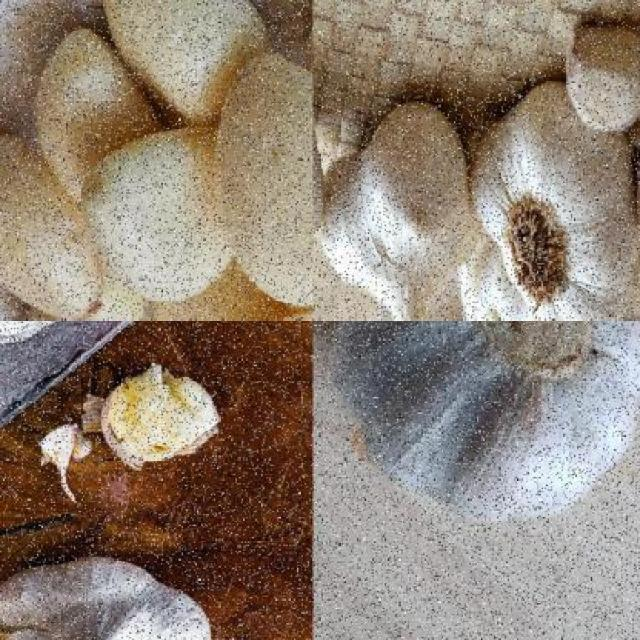garlic: (0, 0, 312, 318), (326, 320, 639, 522), (313, 83, 487, 320), (470, 79, 639, 319), (73, 125, 256, 309), (103, 0, 275, 120), (566, 21, 640, 144)
